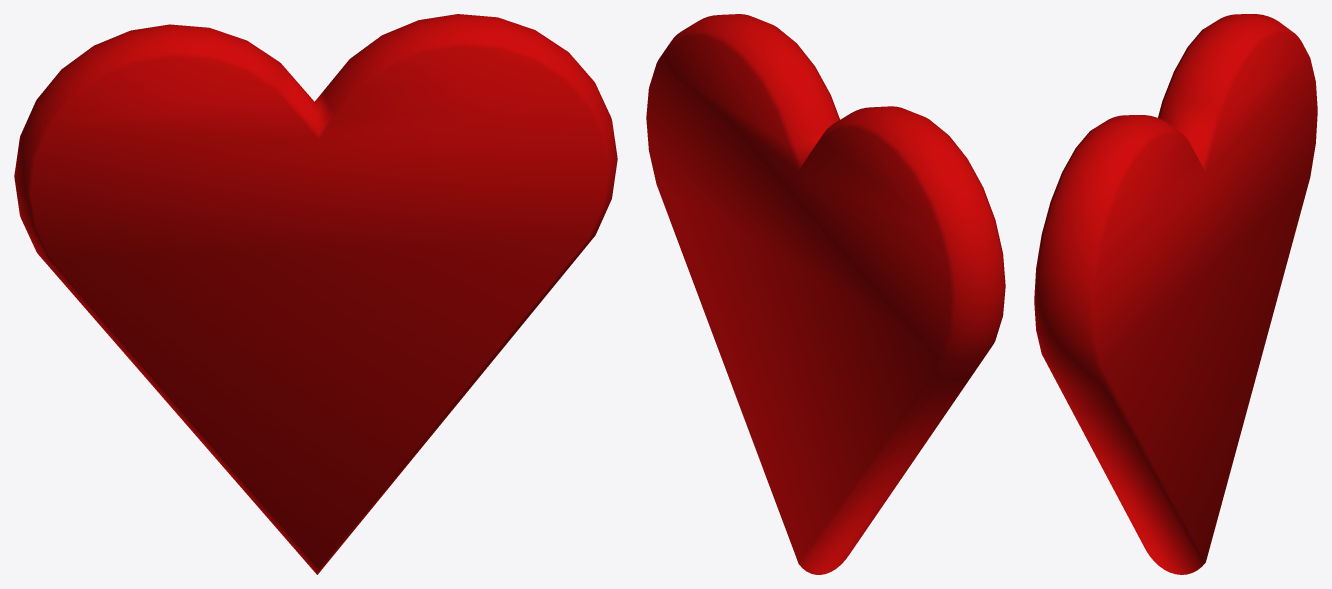
The model's file is Heart.dae.
3 renders of one model, left to right at view 1: azimuth 30°, elevation 25°; view 2: azimuth 150°, elevation 25°; view 3: azimuth 270°, elevation 25°, orthographic. The views are drawn at different scales.
Visible parts, largest first — view 1: SketchUp (×2); view 2: SketchUp (×2); view 3: SketchUp (×2).
Boxes of the visible parts, box(x1,y1,x2,y2) form: SketchUp (×2): box(14, 14, 617, 574); SketchUp (×2): box(646, 14, 1005, 574); SketchUp (×2): box(1034, 14, 1317, 574).
Bounding box in the file's own units: 152 × 84.63 × 164.
